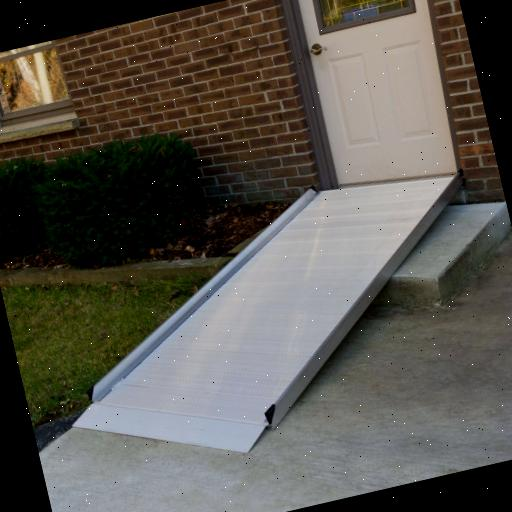ramp: (42, 154, 508, 488)
